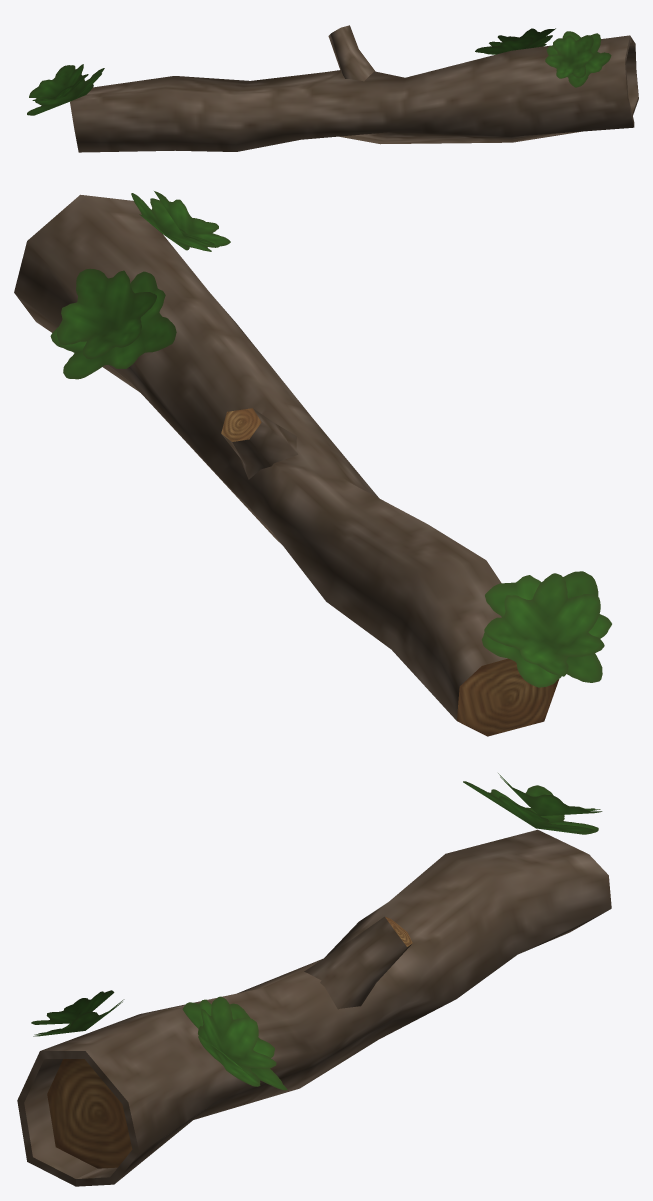
Rendered from Tree_Fall3.fbx.
3 renders of one model, top to bottom at view 1: azimuth 30°, elevation 25°; view 2: azimuth 150°, elevation 25°; view 3: azimuth 270°, elevation 25°, orthographic. The views are drawn at different scales.
Visible parts, largest first — view 1: Tree_Fall3; view 2: Tree_Fall3; view 3: Tree_Fall3.
Boxes of the visible parts, x1,y1,x2,y2 form: Tree_Fall3: (27, 25, 638, 152); Tree_Fall3: (14, 191, 611, 736); Tree_Fall3: (17, 773, 611, 1186).
Size of the model in its own units: 349 by 92.89 by 236.
2 materials, 2 textured.
